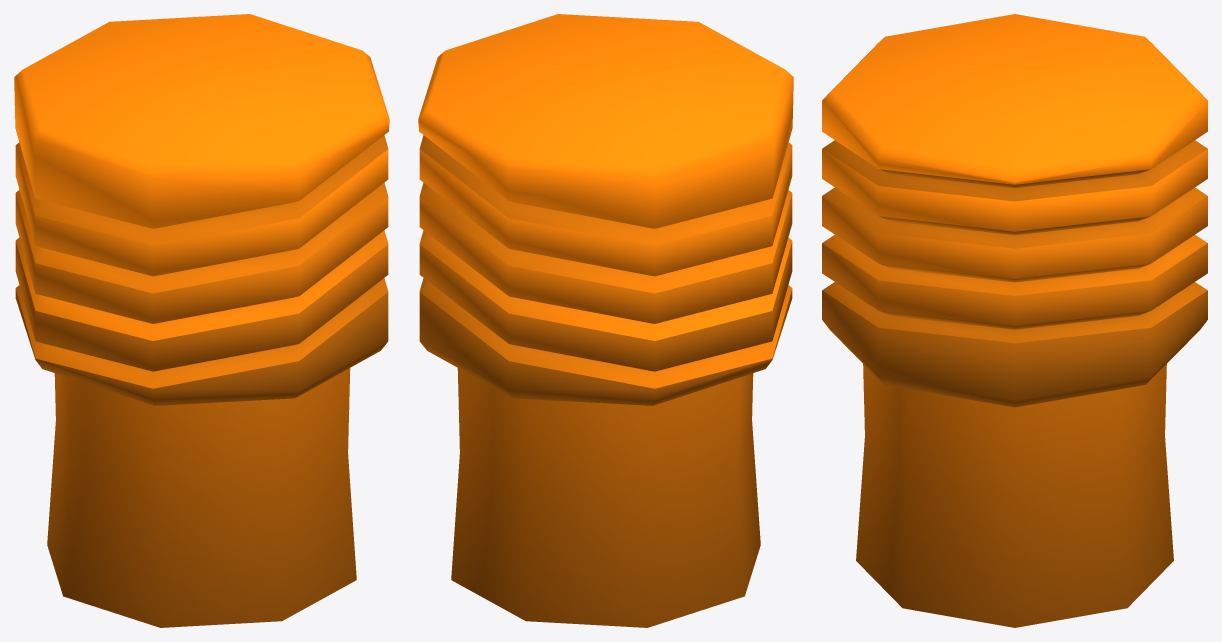
The model's file is bronze_grip_097.glb.
The picture shows the model from 3 angles, left to right: view 1: azimuth 30°, elevation 25°; view 2: azimuth 150°, elevation 25°; view 3: azimuth 270°, elevation 25°; orthographic projection.
Parts seen in each view (by area): view 1: bronze_grip_097; view 2: bronze_grip_097; view 3: bronze_grip_097.
Boxes of the visible parts, <box> form: bronze_grip_097: <box>14,14,389,627</box>; bronze_grip_097: <box>418,14,793,627</box>; bronze_grip_097: <box>822,14,1207,627</box>.
Size of the model in its own units: 2.24 by 3 by 2.24.
1 material, 1 textured.
